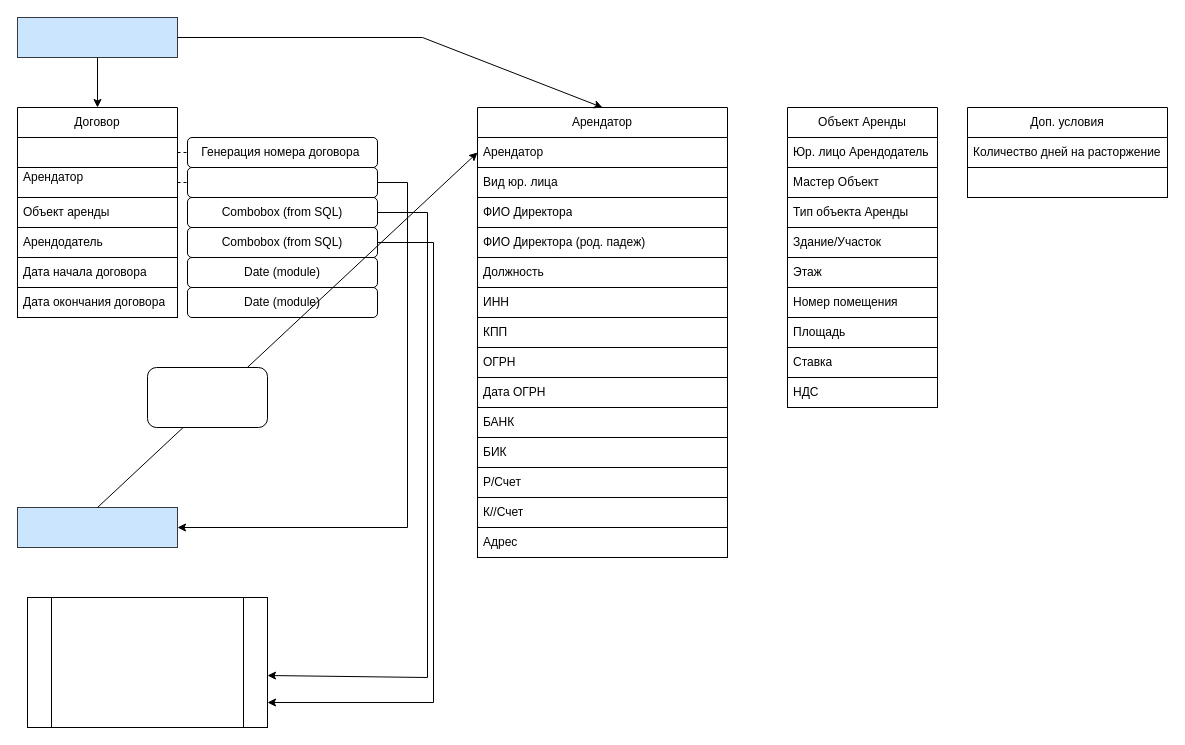
This 1185x745 diagram has some shape labels left out. The box of each missing label's shape, as (x1, y1, x2, y2) in pixels:
Frm_Agreements: (16, 16, 178, 58)
Frm_ChooseClient: (16, 506, 178, 548)
SQL Connection Get Array: (26, 596, 268, 728)
Арендные каникулы: (966, 166, 1168, 198)
Выбор арендатора: (186, 166, 378, 198)
Номер договора: (16, 136, 178, 168)
Перенос и заполнение арендатора: (146, 366, 268, 428)
